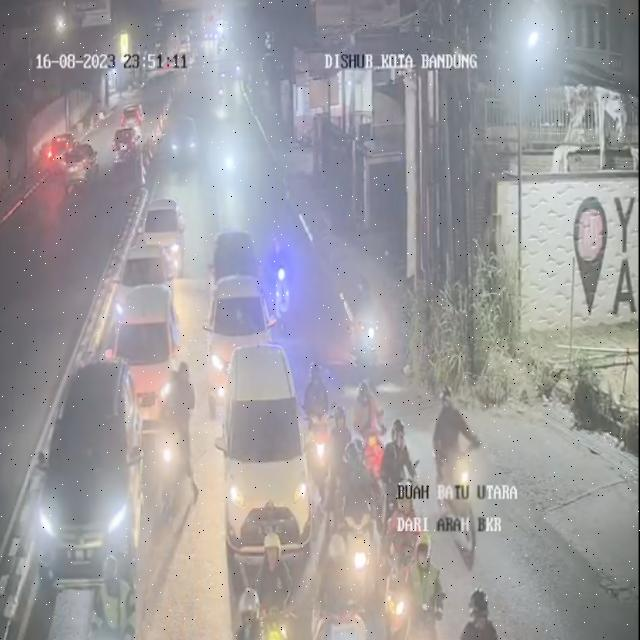cars: (30, 357, 140, 589), (216, 335, 316, 557), (113, 280, 187, 430), (207, 271, 270, 409), (115, 240, 176, 346), (205, 216, 257, 302), (146, 192, 186, 274), (165, 99, 202, 170)
motorcycle: (436, 378, 486, 559), (156, 355, 193, 502), (84, 544, 139, 640), (382, 417, 418, 557), (250, 526, 289, 640), (321, 532, 355, 640), (351, 372, 384, 476), (311, 377, 337, 490), (305, 352, 334, 452), (216, 132, 248, 192), (236, 588, 271, 639), (322, 476, 343, 538), (458, 594, 486, 640), (340, 434, 362, 492), (257, 614, 297, 640)
